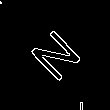N_SE: (23, 23, 87, 87)
